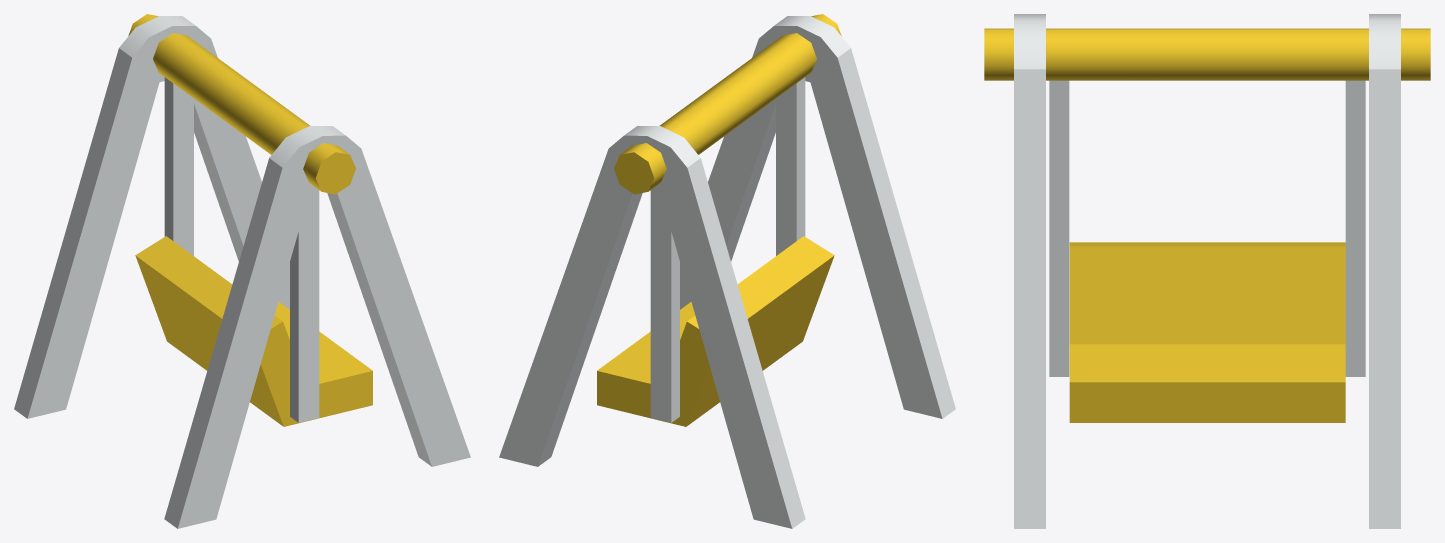
The model's file is swing01_s01.FBX.
The picture shows the model from 3 angles, left to right: view 1: azimuth 30°, elevation 25°; view 2: azimuth 150°, elevation 25°; view 3: azimuth 270°, elevation 25°; orthographic projection. The views are drawn at different scales.
Visible parts, largest first — view 1: swing01_s01, swing01_part2_s01; view 2: swing01_s01, swing01_part2_s01; view 3: swing01_part2_s01, swing01_s01.
Part boxes in pixels (left/top/right/bottom): swing01_s01: left=14, top=14, right=470, bottom=528; swing01_part2_s01: left=135, top=77, right=372, bottom=426; swing01_s01: left=499, top=14, right=955, bottom=528; swing01_part2_s01: left=597, top=77, right=834, bottom=426; swing01_part2_s01: left=1049, top=80, right=1365, bottom=422; swing01_s01: left=984, top=14, right=1430, bottom=528.
Size of the model in its own units: 178 by 199 by 208.
Materials: 1 (1 with a texture image).
